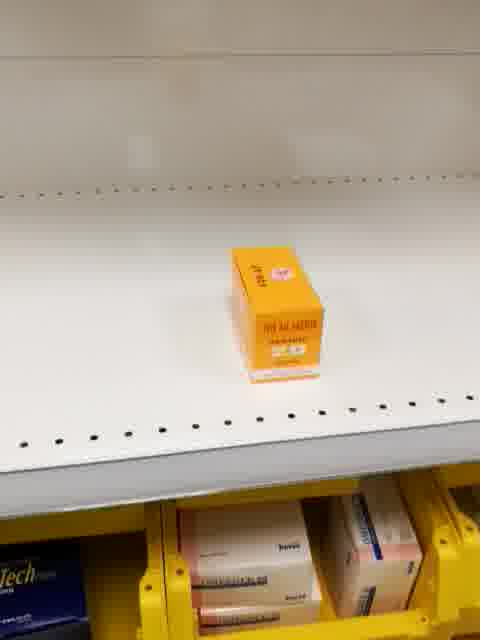jasminetea: (226, 243, 325, 383)
